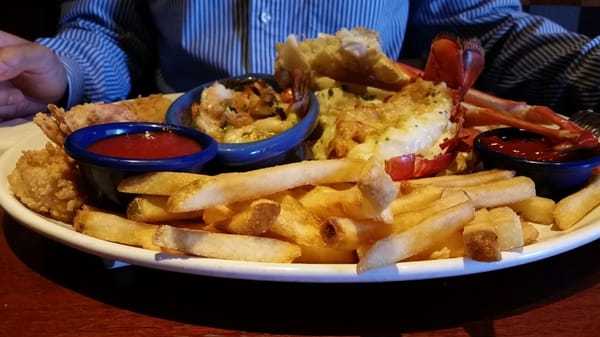sushi: (166, 76, 319, 166)
